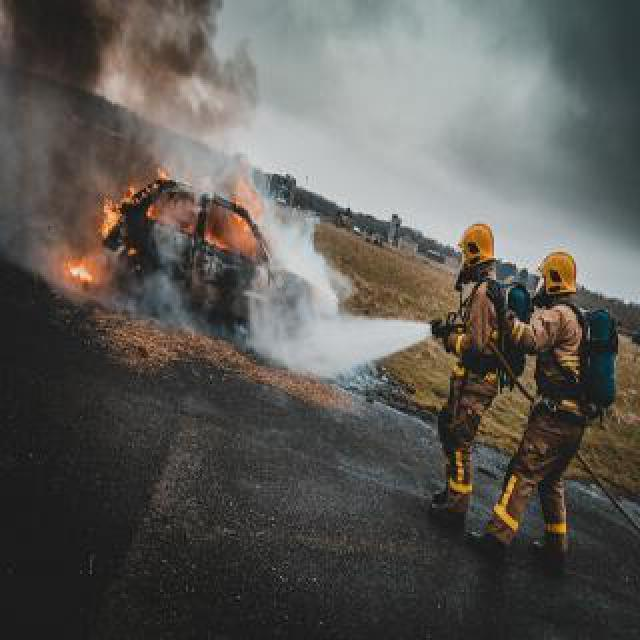Fire: (98, 172, 172, 240), (60, 256, 102, 296), (230, 178, 262, 230)
Smoke: (1, 0, 260, 211)
